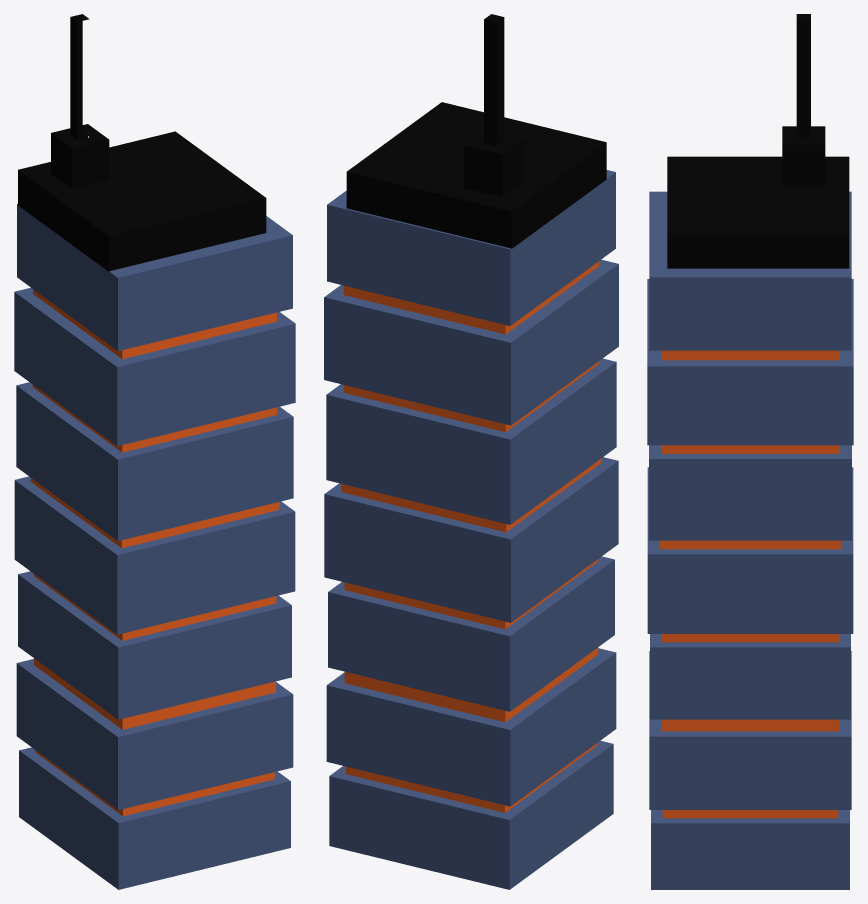
The picture shows the model from 3 angles, left to right: view 1: azimuth 30°, elevation 25°; view 2: azimuth 150°, elevation 25°; view 3: azimuth 270°, elevation 25°; orthographic projection. The views are drawn at different scales.
Parts seen in each view (by area): view 1: Cube.004; view 2: Cube.004; view 3: Cube.004.
Boxes of the visible parts, left/top/right/bottom form: Cube.004: left=14, top=14, right=295, bottom=889; Cube.004: left=324, top=14, right=618, bottom=889; Cube.004: left=647, top=14, right=853, bottom=889.
Bounding box in the file's own units: 442 × 1907 × 442.
